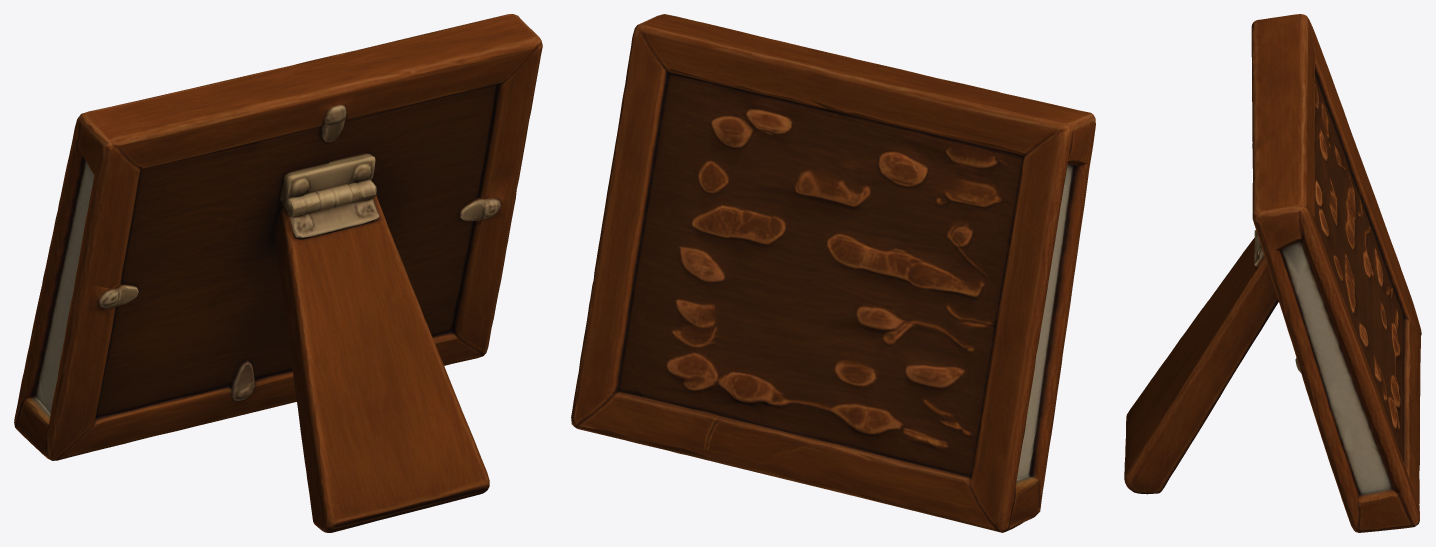
The model's file is frame.glb.
The picture shows the model from 3 angles, left to right: view 1: azimuth 30°, elevation 25°; view 2: azimuth 150°, elevation 25°; view 3: azimuth 270°, elevation 25°; orthographic projection. The views are drawn at different scales.
Visible parts, largest first — view 1: world; view 2: world; view 3: world.
Boxes of the visible parts, x1=… form: world: x1=14, y1=14, x2=542, y2=532; world: x1=571, y1=14, x2=1095, y2=532; world: x1=1124, y1=14, x2=1421, y2=532.
Size of the model in its own units: 1 by 0.8551 by 0.6567.
1 material, 1 textured.
